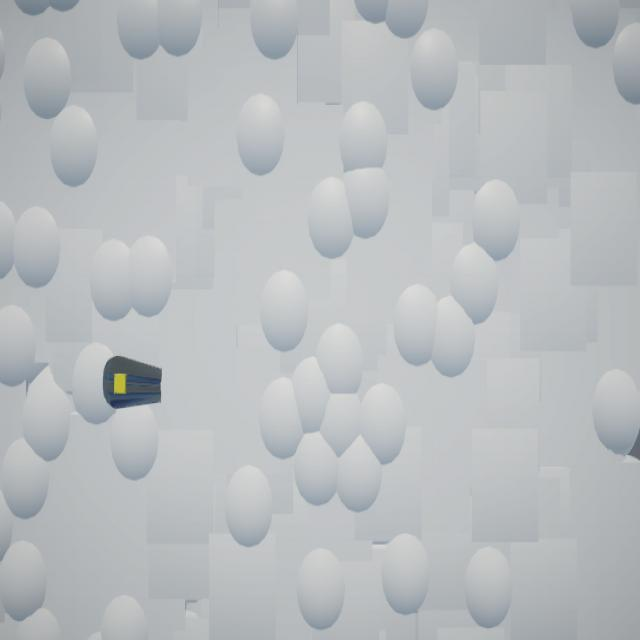handle_folk: (104, 357, 163, 410)
